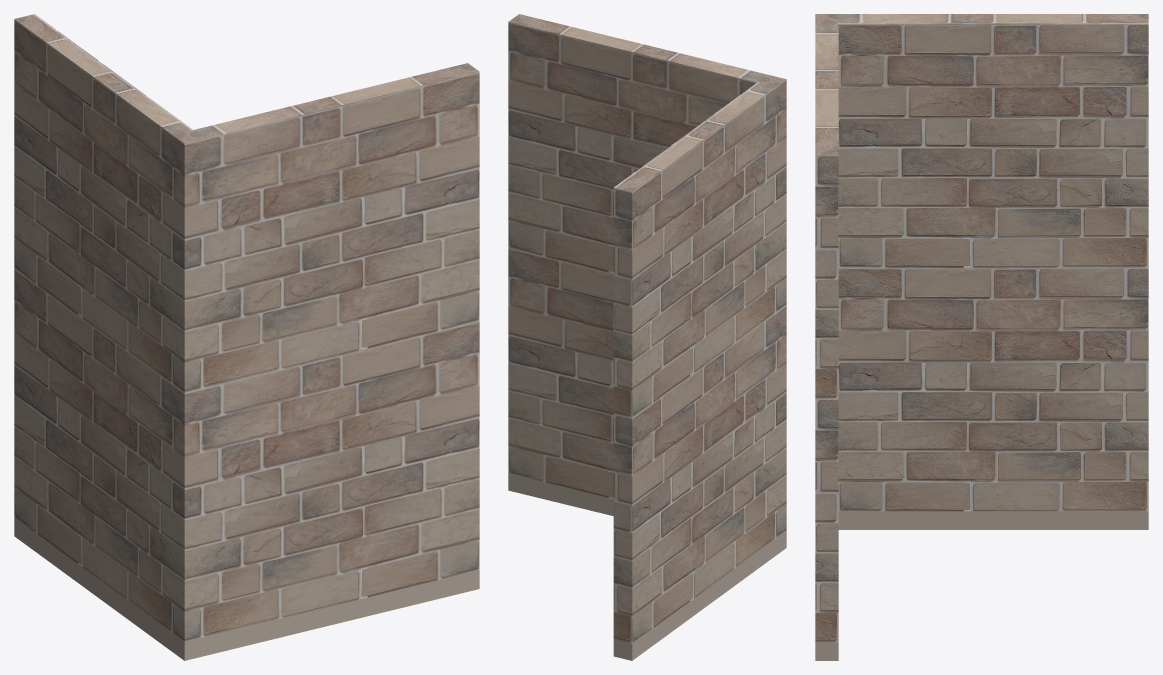
Rendered from ARC0210017.fbx.
3 views of the same model, side by side, from view 1: azimuth 30°, elevation 25°; view 2: azimuth 150°, elevation 25°; view 3: azimuth 270°, elevation 25° (orthographic). The views are drawn at different scales.
Parts seen in each view (by area): view 1: smARC0210017; view 2: smARC0210017; view 3: smARC0210017.
Part boxes in pixels (x1,y1,x2,y2): smARC0210017: (14, 14, 479, 660); smARC0210017: (508, 14, 786, 660); smARC0210017: (815, 14, 1148, 660).
Bounding box in the file's own units: 196 × 328 × 196.
Materials: 1 (1 with a texture image).
